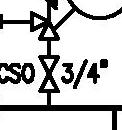psv: (28, 1, 63, 42)
verticalvalve: (38, 54, 60, 93)
